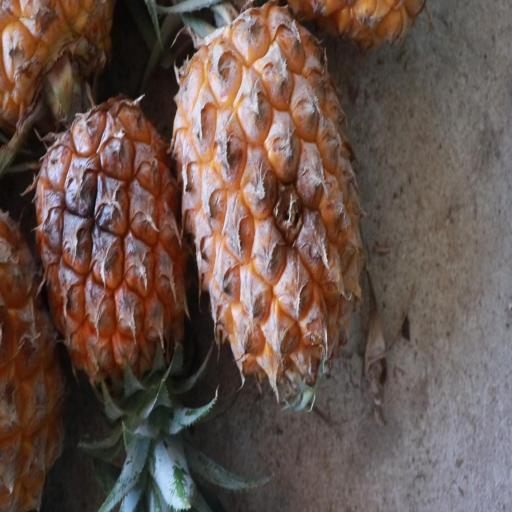Pineapple - v8 v1: (168, 0, 375, 395), (34, 86, 194, 400), (3, 492, 6, 497)
